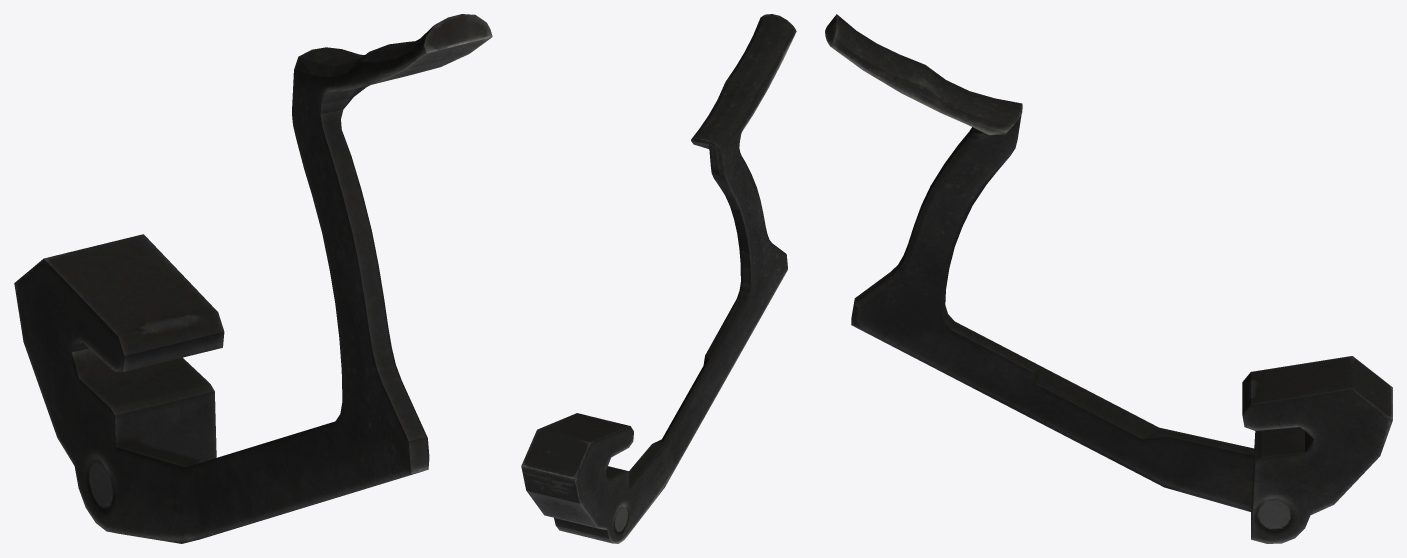
The picture shows the model from 3 angles, left to right: view 1: azimuth 30°, elevation 25°; view 2: azimuth 150°, elevation 25°; view 3: azimuth 270°, elevation 25°; orthographic projection. The views are drawn at different scales.
Visible parts, largest first — view 1: TW_61f7c9e189e6fb1a5e3ea78d_PZ_Import; view 2: TW_61f7c9e189e6fb1a5e3ea78d_PZ_Import; view 3: TW_61f7c9e189e6fb1a5e3ea78d_PZ_Import.
Part boxes in pixels (x1,y1,x2,y2): TW_61f7c9e189e6fb1a5e3ea78d_PZ_Import: (14, 14, 492, 543); TW_61f7c9e189e6fb1a5e3ea78d_PZ_Import: (521, 14, 796, 543); TW_61f7c9e189e6fb1a5e3ea78d_PZ_Import: (825, 14, 1392, 543).
Bounding box in the file's own units: 0.00689 × 0.0494 × 0.0484.
1 material, 1 textured.
